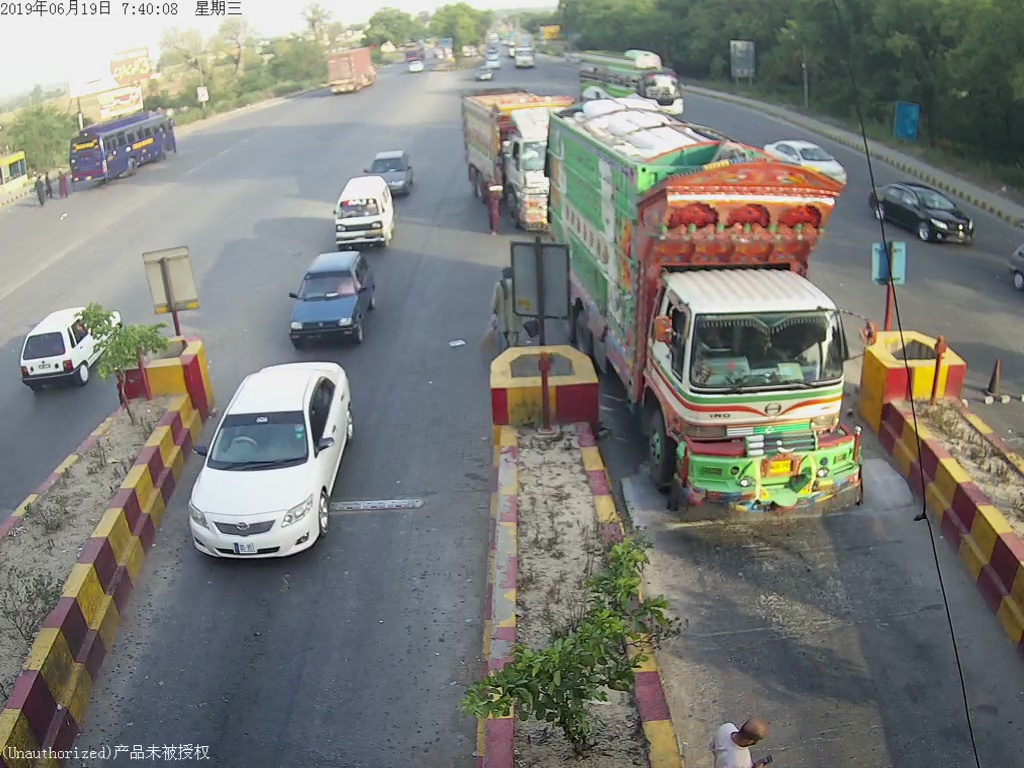Cat-1: (190, 357, 348, 578), (280, 249, 370, 347), (328, 184, 400, 252)
Cat-4: (541, 100, 887, 534)
